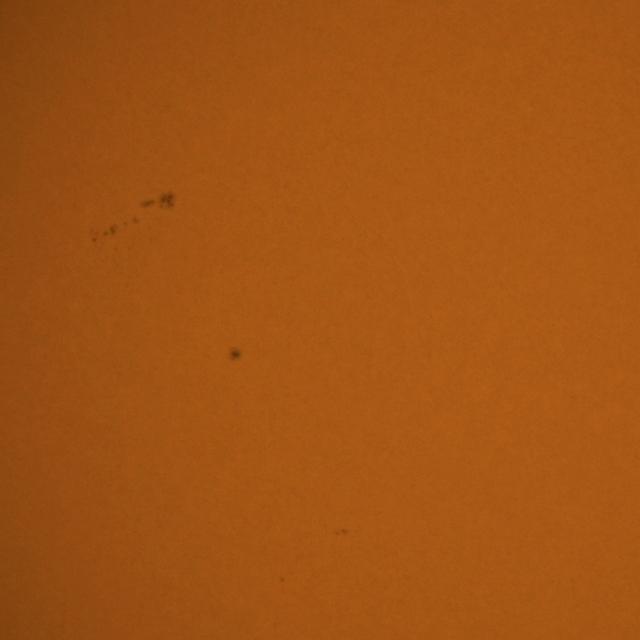sunspot: (100, 215, 142, 240), (136, 190, 176, 214), (92, 223, 120, 245), (227, 346, 243, 363), (333, 526, 350, 538), (278, 574, 286, 584)
